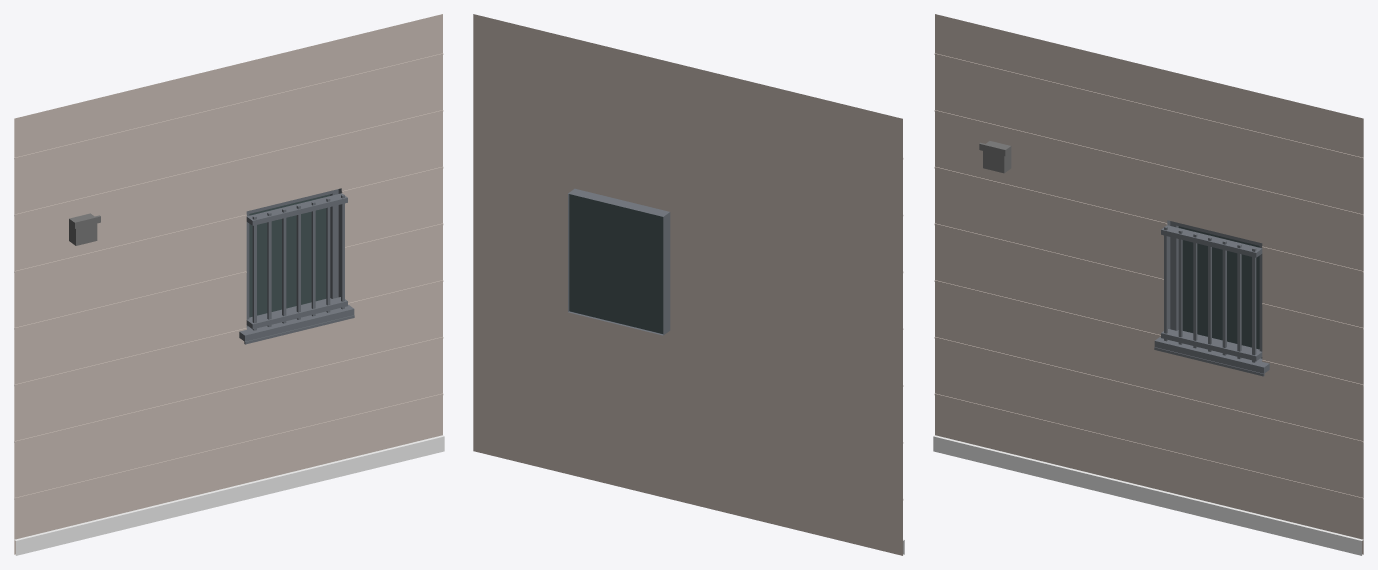
The model's file is top-w2_close.fbx.
The picture shows the model from 3 angles, left to right: view 1: azimuth 30°, elevation 25°; view 2: azimuth 150°, elevation 25°; view 3: azimuth 330°, elevation 25°; orthographic projection.
Parts seen in each view (by area): view 1: a2000s2/0/top-w2_close; view 2: a2000s2/0/top-w2_close; view 3: a2000s2/0/top-w2_close.
Part boxes in pixels (x1,y1,x2,y2): a2000s2/0/top-w2_close: [14, 14, 444, 555]; a2000s2/0/top-w2_close: [473, 14, 904, 555]; a2000s2/0/top-w2_close: [933, 14, 1363, 555].
Size of the model in its own units: 3.6 by 3.5 by 0.22.
